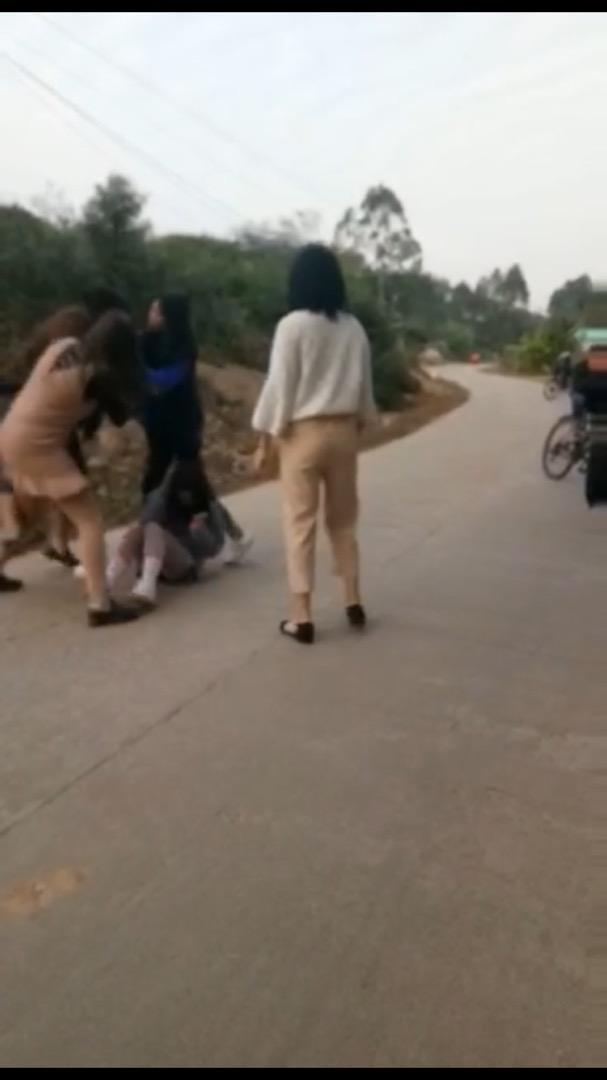Fall-Detected: (29, 459, 251, 621)
